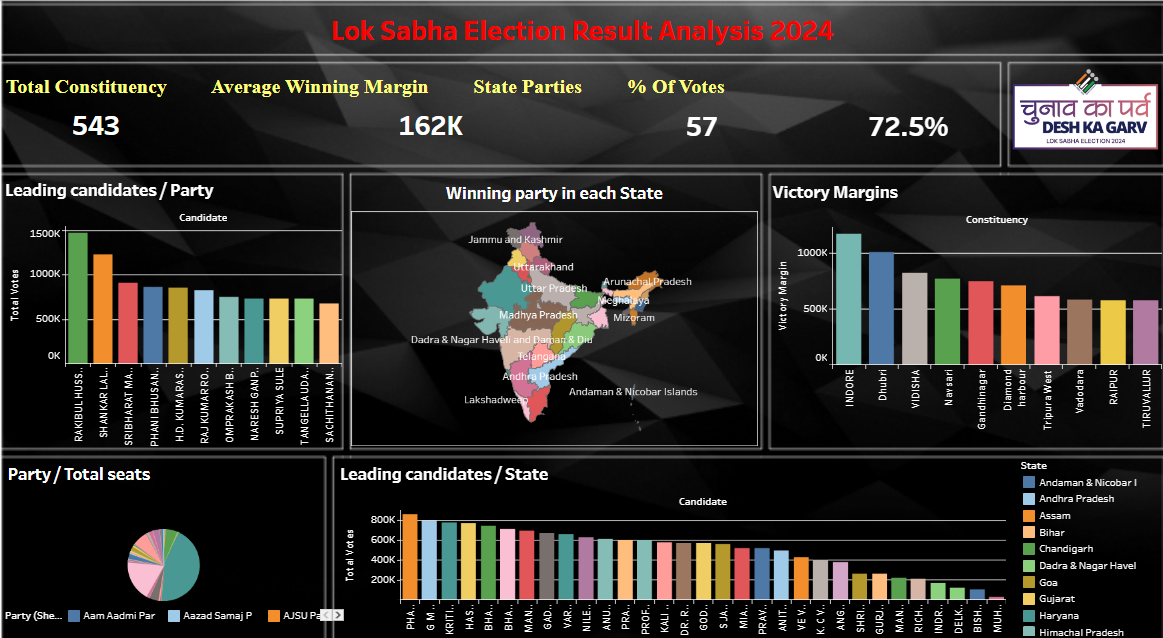

This screenshot's page, from the dashboard's own definition file:
{"tool":"tableau","page":{"name":"Dashboard 1","canvas":[1420,820],"ordinal":0},"visuals":[{"type":"image","param":"C:/Users/ASUS/Desktop/Screenshot 2024-06-30 202405.png","box":[8,8,1404,804]},{"type":"text","box":[15,21,1391,56]},{"type":"text","box":[19,91,1209,55]},{"type":"image","param":"C:/Users/ASUS/Desktop/deshgarv-logo.png","box":[1226,93,177,117]},{"type":"text","box":[98,106,108,116]},{"type":"text","box":[490,106,112,116]},{"type":"text","box":[835,107,75,116]},{"type":"text","box":[1054,107,135,116]},{"type":"worksheet","title":"Sheet 5","mark":"Automatic","rows":["Total Votes"],"cols":["Candidate"],"box":[14,222,408,328]},{"type":"worksheet","title":"Sheet 4","mark":"Automatic","rows":["Victory Margin"],"cols":["Constituency"],"box":[935,224,471,328]},{"type":"worksheet","title":"Sheet 1","mark":"Multipolygon","box":[433,225,489,325]},{"type":"worksheet","title":"Sheet 2","mark":"Pie","box":[17,563,383,216]},{"type":"worksheet","title":"Sheet 3","mark":"Automatic","rows":["Total Votes"],"cols":["Candidate"],"box":[416,563,803,214]},{"type":"legend","title":"Sheet 3","param":"[federated.0i5viqz1sobgt314m5yzt0ocuywh].[none:State:nk]","box":[1237,564,168,214]},{"type":"legend","title":"Sheet 2","param":"[federated.11hii1l0lzceoo18iv2wn09y38ql].[none:Party (Sheet2):nk]","box":[18,743,409,34]}]}

Visuals, with their boxes on the page's 1420x820 design canvas (x1, y1, x2, y2). These are canvas units, not pixel positions in the 1163x638 screenshot, which may show the page scaled, cropped or inside an application window:
image: (8,8,1412,812)
text: (15,21,1406,77)
text: (19,91,1228,146)
image: (1226,93,1403,210)
text: (98,106,206,222)
text: (490,106,602,222)
text: (835,107,910,223)
text: (1054,107,1189,223)
"Sheet 5" worksheet: (14,222,422,550)
"Sheet 4" worksheet: (935,224,1406,552)
"Sheet 1" worksheet (Multipolygon marks): (433,225,922,550)
"Sheet 2" worksheet (Pie marks): (17,563,400,779)
"Sheet 3" worksheet: (416,563,1219,777)
"Sheet 3" legend: (1237,564,1405,778)
"Sheet 2" legend: (18,743,427,777)
